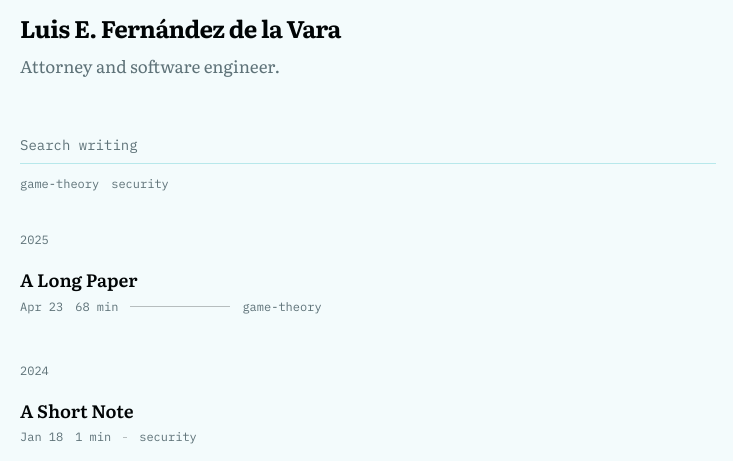
it: Writing › filters by clicking a tag, and clears again
expect the heading "A Long Paper" is shown: met, box [20,266,138,293]
Click the button "game-theory" at (60, 184), box [20,176,99,192]
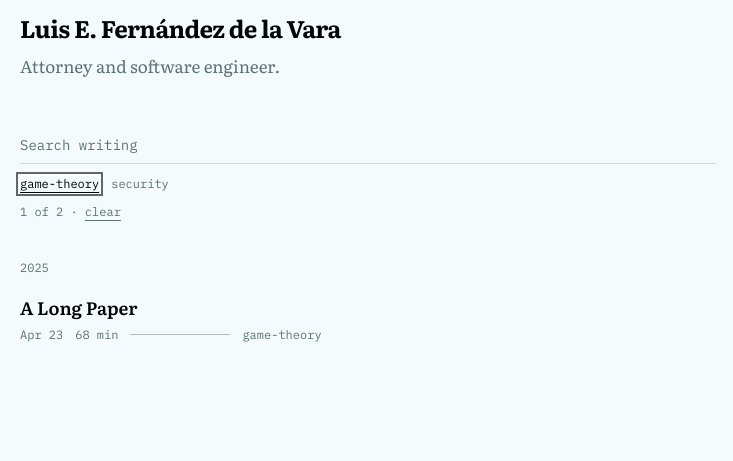
expect the link "A Short Note" is gone: met
Click the button "clear" at (103, 212), box [85,204,121,220]
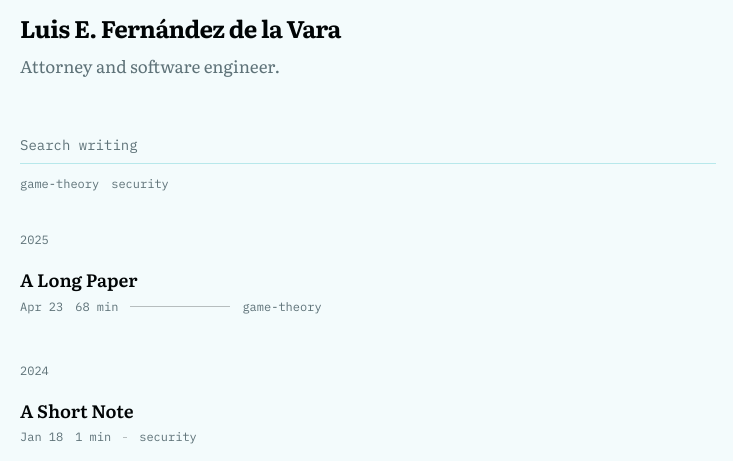
expect the heading "A Short Note" is shown: met, box [20,397,134,424]
